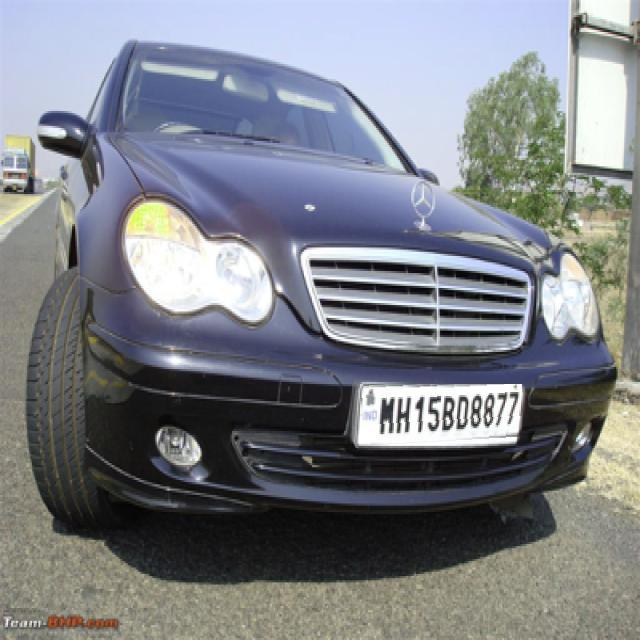licence: (360, 384, 522, 446)
